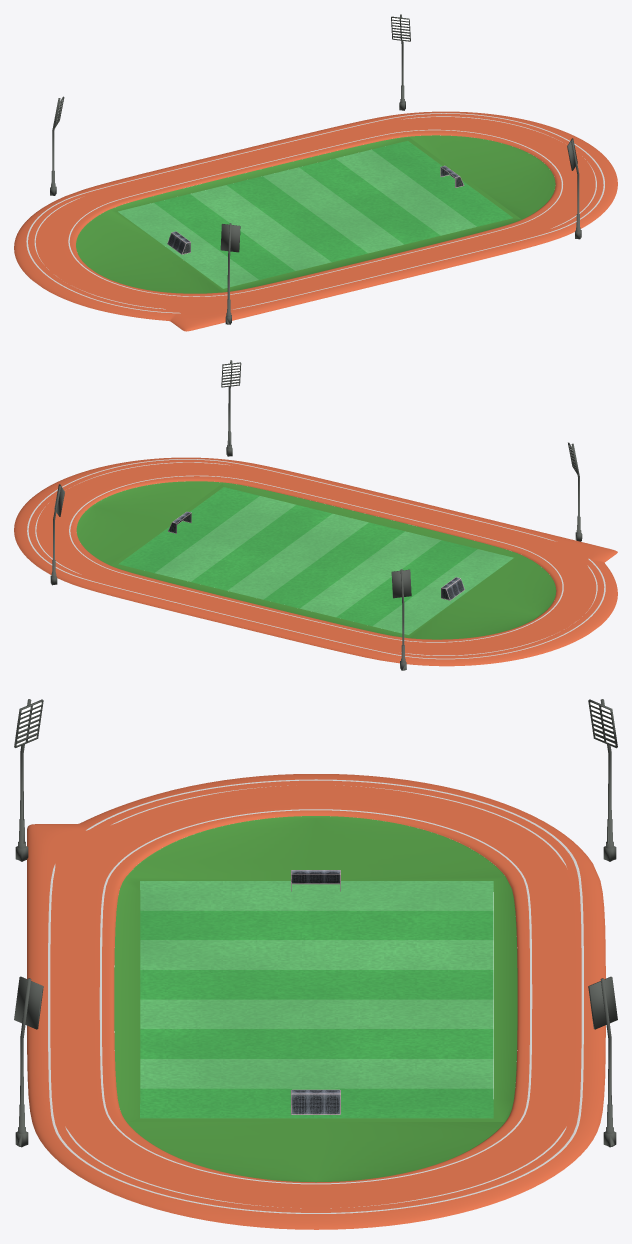
The model's file is Running_Track.glb.
3 views of the same model, one above another, from view 1: azimuth 30°, elevation 25°; view 2: azimuth 150°, elevation 25°; view 3: azimuth 270°, elevation 25° (orthographic). The views are drawn at different scales.
Parts seen in each view (by area): view 1: Running_Track, Track Lines, Fled Lights, Goal_Post; view 2: Running_Track, Track Lines, Fled Lights, Goal_Post; view 3: Running_Track, Track Lines, Fled Lights, Goal_Post.
Boxes of the visible parts, box(x1,y1,x2,y2) form: Running_Track: box(14, 111, 617, 331); Track Lines: box(26, 113, 604, 313); Fled Lights: box(50, 14, 581, 324); Goal_Post: box(167, 165, 464, 254); Running_Track: box(14, 457, 617, 666); Track Lines: box(27, 459, 605, 659); Fled Lights: box(50, 360, 582, 670); Goal_Post: box(168, 511, 464, 600); Running_Track: box(27, 774, 605, 1229); Track Lines: box(48, 779, 583, 1213); Fled Lights: box(14, 699, 617, 1147); Goal_Post: box(291, 870, 340, 1114).
Size of the model in its own units: 150 by 25.2 by 84.2.
8 materials, 2 textured.
